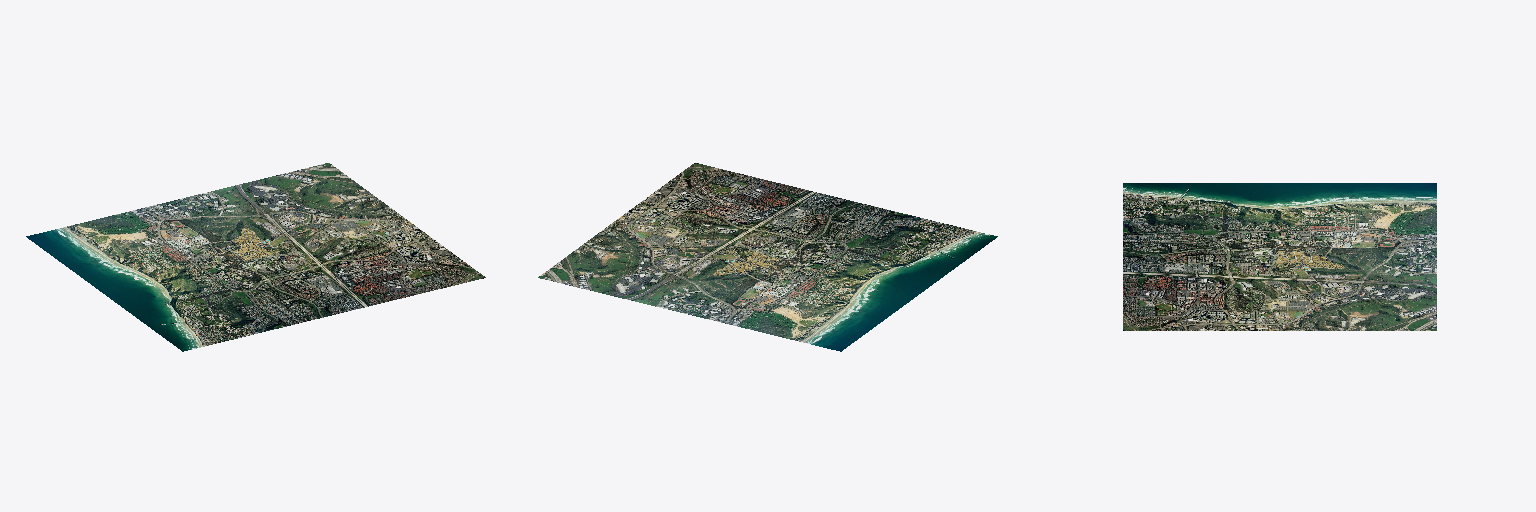
3 views of the same model, side by side, from view 1: azimuth 30°, elevation 25°; view 2: azimuth 150°, elevation 25°; view 3: azimuth 270°, elevation 25° (orthographic).
Visible parts, largest first — view 1: Mesh129 Model; view 2: Mesh129 Model; view 3: Mesh129 Model.
Boxes of the visible parts, x1,y1,x2,y2 form: Mesh129 Model: [26, 163, 485, 351]; Mesh129 Model: [538, 163, 997, 351]; Mesh129 Model: [1123, 183, 1436, 330].
Bounding box in the file's own units: 174295 × 1428 × 156492.
8 materials, 3 textured.